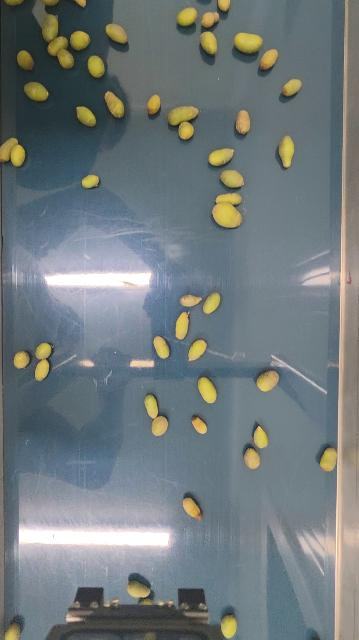Baby Potato: (212, 202, 244, 229), (104, 88, 127, 120), (233, 32, 264, 54), (278, 134, 297, 169), (166, 105, 199, 125), (198, 375, 219, 405), (257, 368, 281, 393), (24, 80, 50, 103), (207, 147, 235, 168), (41, 12, 60, 42), (199, 29, 220, 56), (105, 22, 129, 45), (320, 445, 339, 473), (174, 310, 191, 341), (220, 168, 245, 189), (182, 496, 203, 521), (235, 107, 253, 136), (46, 34, 69, 56), (0, 136, 18, 164), (76, 105, 98, 127), (69, 28, 90, 51), (260, 47, 280, 71), (215, 190, 245, 206), (203, 291, 222, 316), (87, 54, 106, 79), (176, 6, 198, 27), (153, 334, 171, 359), (126, 580, 151, 598), (253, 424, 270, 450), (9, 143, 26, 169), (221, 614, 238, 640), (188, 339, 207, 362), (282, 77, 303, 97), (16, 49, 35, 71), (151, 414, 170, 436), (144, 393, 160, 419), (244, 447, 262, 470), (34, 358, 51, 382), (57, 48, 76, 69), (200, 10, 221, 28), (12, 349, 30, 369), (179, 293, 203, 308), (146, 93, 162, 115), (178, 120, 196, 139), (35, 342, 53, 360), (191, 415, 208, 434), (4, 622, 21, 640), (80, 173, 99, 189), (59, 0, 88, 8), (216, 0, 233, 12), (3, 0, 28, 7), (38, 0, 60, 6)
